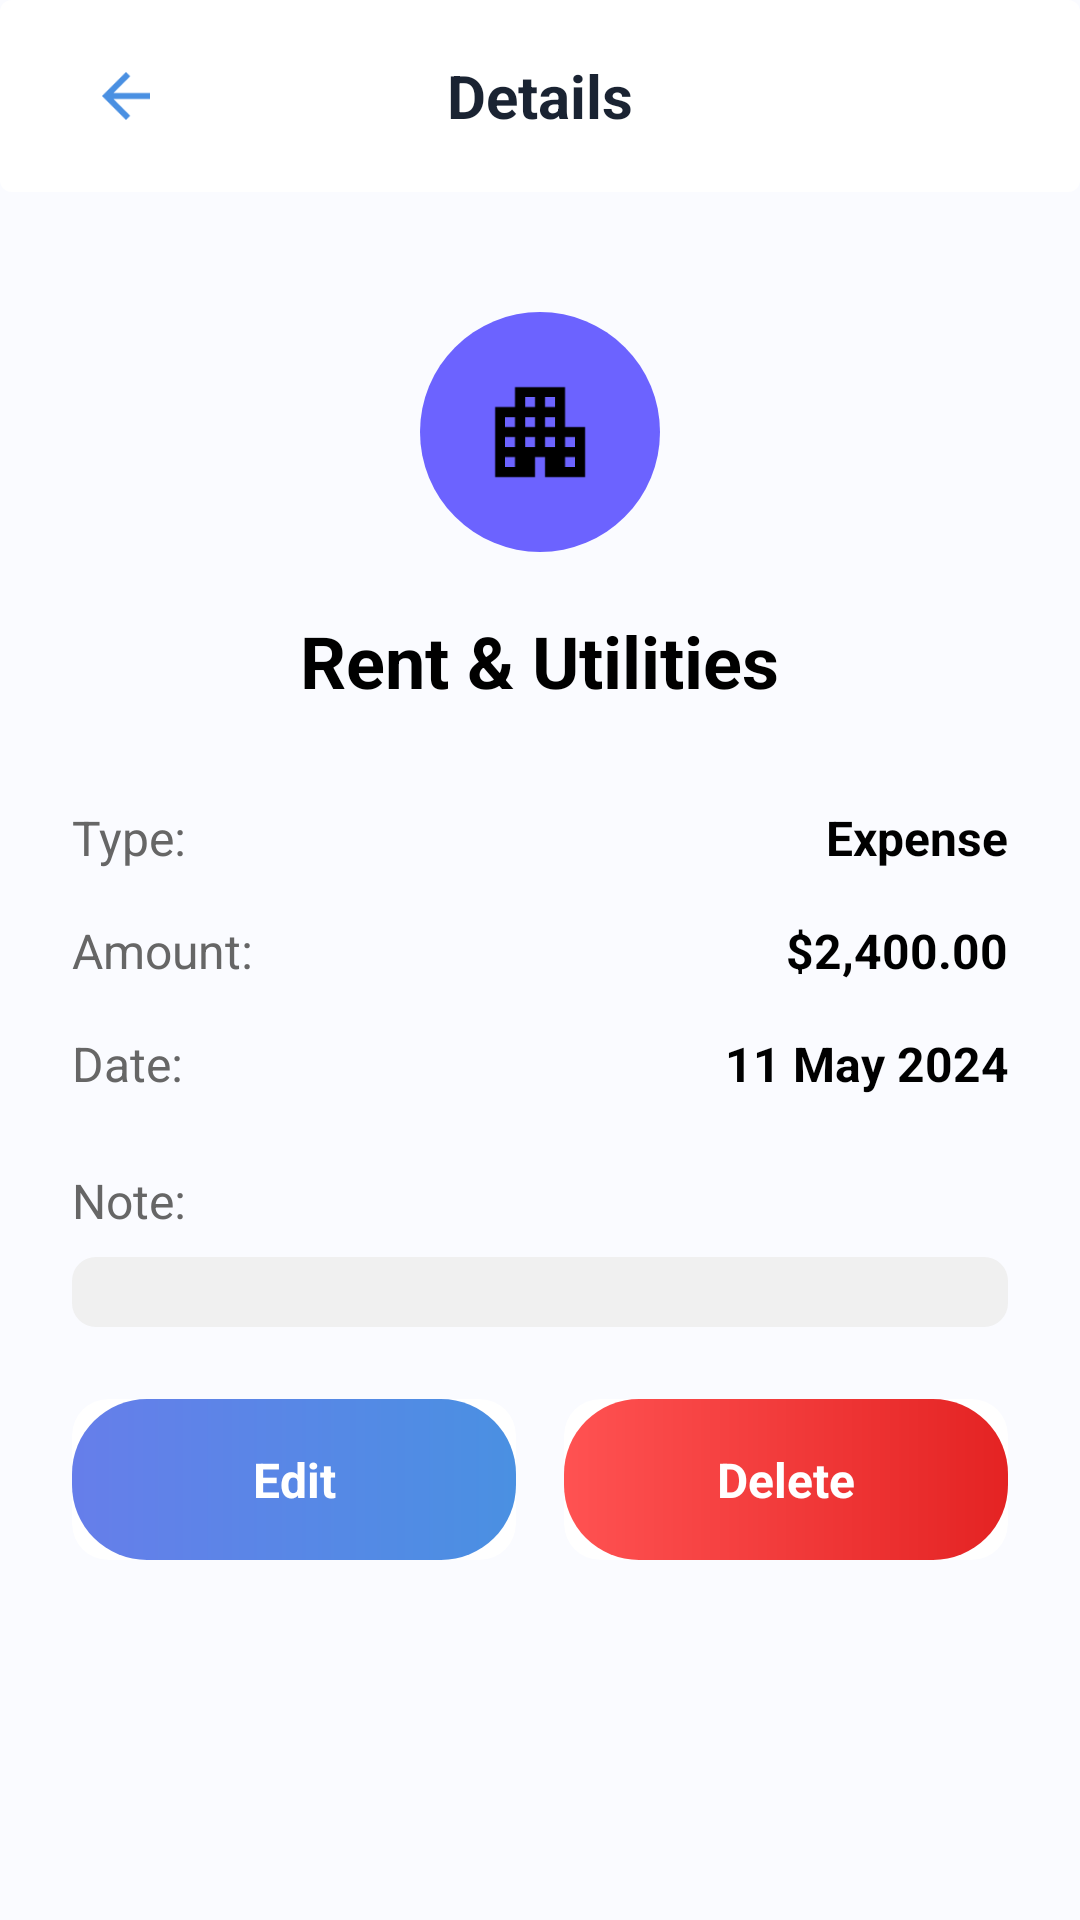

Icon bounding boxes for this 1080px x 1920px phone screenshot, format (x1, y1, x2, y2):
Go back: (102, 72, 150, 120)
